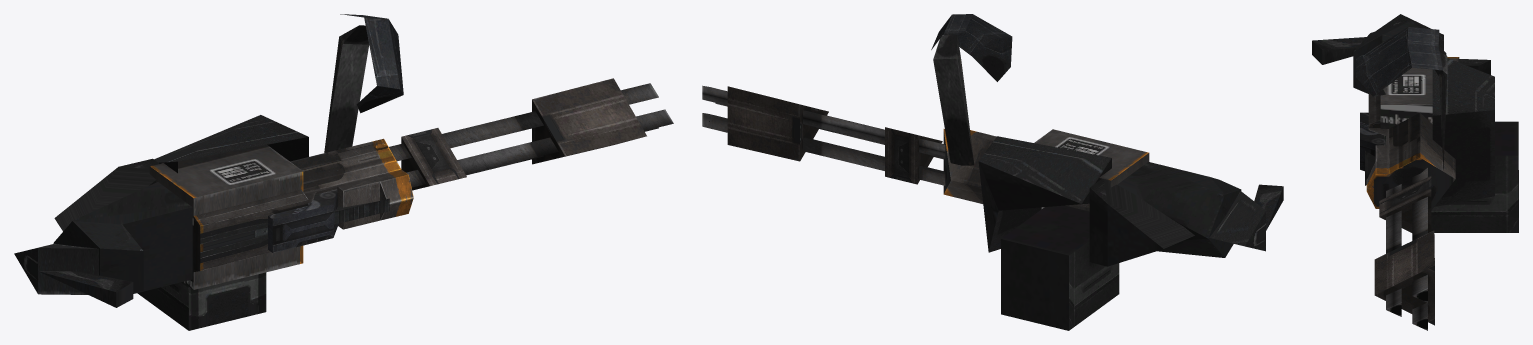
Rendered from t6_wpn_minigun_world_LOD2.obj.
3 views of the same model, side by side, from view 1: azimuth 30°, elevation 25°; view 2: azimuth 150°, elevation 25°; view 3: azimuth 270°, elevation 25° (orthographic). The views are drawn at different scales.
Parts seen in each view (by area): view 1: mtl_t6_wpn_minigun; view 2: mtl_t6_wpn_minigun; view 3: mtl_t6_wpn_minigun.
Boxes of the visible parts, x1,y1,x2,y2 form: mtl_t6_wpn_minigun: [14, 14, 673, 330]; mtl_t6_wpn_minigun: [702, 14, 1283, 330]; mtl_t6_wpn_minigun: [1312, 14, 1518, 330].
Bounding box in the file's own units: 121 × 50.57 × 38.38.
